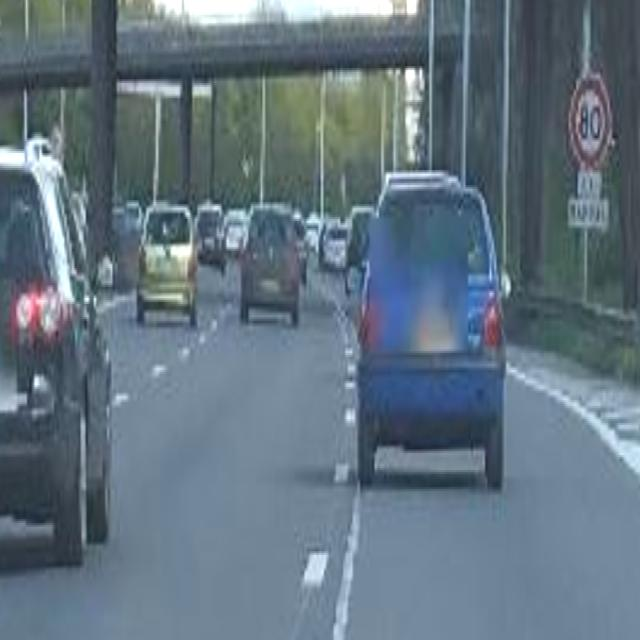speed_80: (570, 81, 610, 165)
